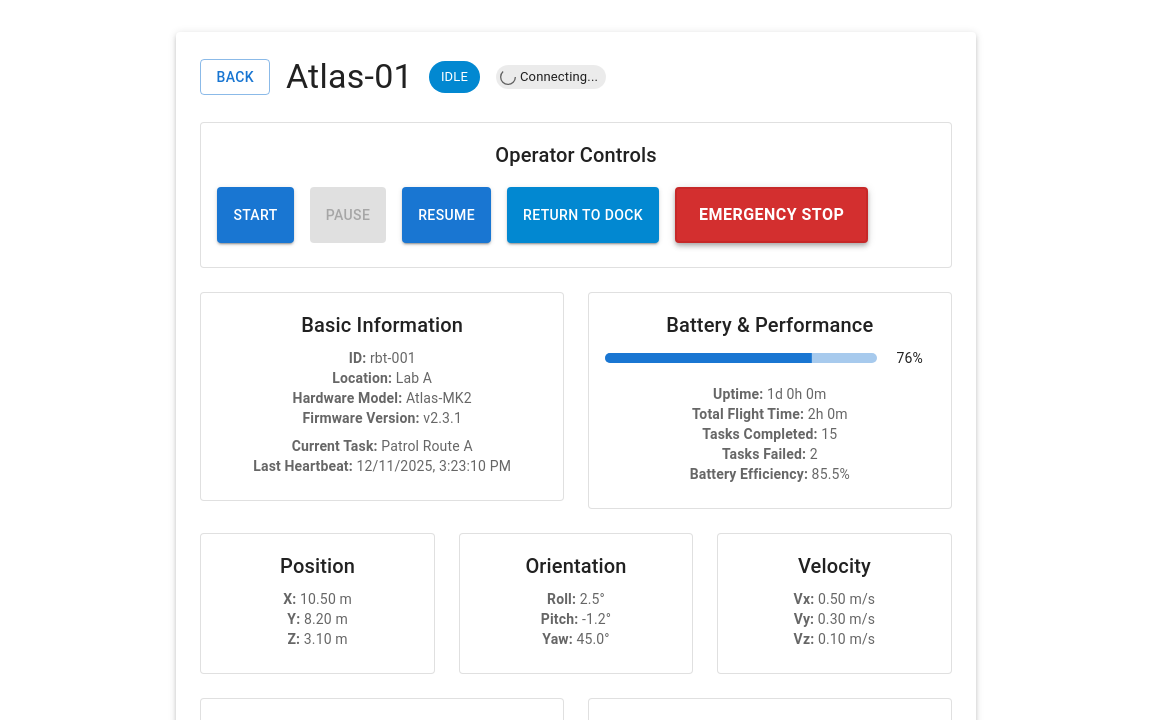
it: RobotDetailPage › Control Handlers › shows loading state when Start button is clicked
Click the button "Start".
click(256, 215)  # box [217,187,294,243]
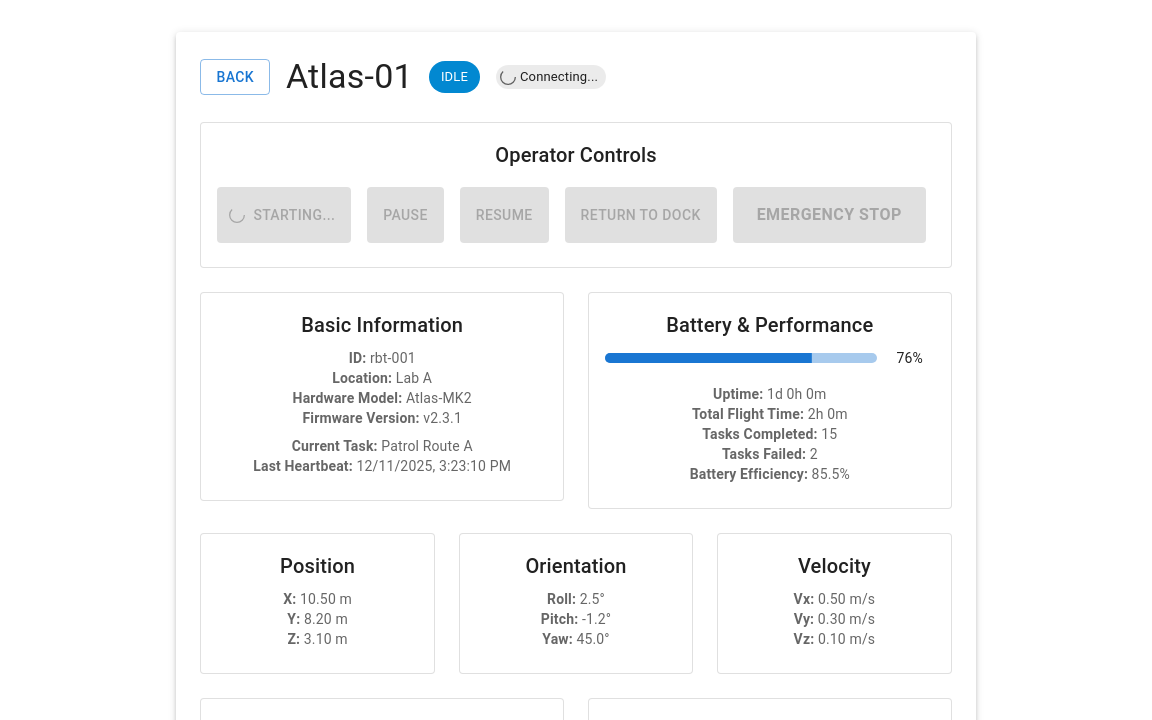
Result: the button "Starting..." is disabled at [217,187,351,243]
